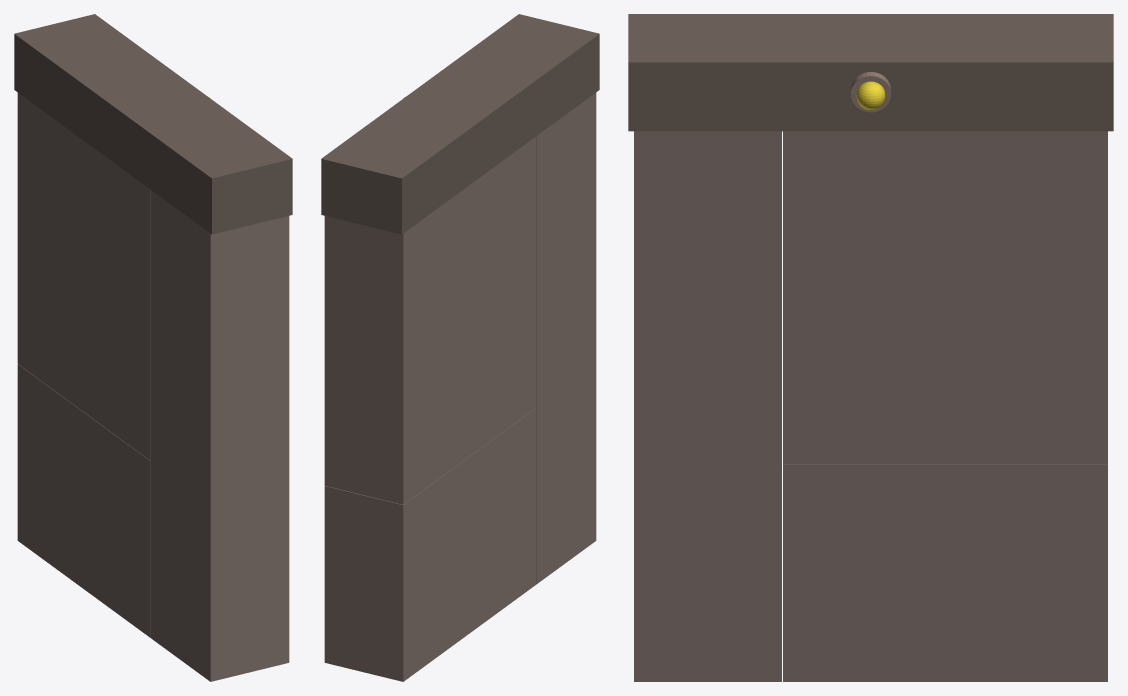
File: drzwi2 animacja.glb
3 renders of one model, left to right at view 1: azimuth 30°, elevation 25°; view 2: azimuth 150°, elevation 25°; view 3: azimuth 270°, elevation 25°, orthographic. The views are drawn at different scales.
Visible parts, largest first — view 1: Cube.002, Cube.001, Cube, Cube.003; view 2: Cube.001, Cube.003, Cube, Cube.002; view 3: Cube.001, Cube.002, Cube.003, Cube, Circle.
Boxes of the visible parts, <box> form: Cube.002: <box>150,190,289,681</box>; Cube.001: <box>17,92,150,459</box>; Cube: <box>14,14,292,234</box>; Cube.003: <box>17,364,150,637</box>; Cube.001: <box>324,137,535,504</box>; Cube.003: <box>324,408,535,681</box>; Cube: <box>321,14,599,234</box>; Cube.002: <box>536,92,596,584</box>; Cube.001: <box>783,131,1107,464</box>; Cube.002: <box>634,131,781,681</box>; Cube.003: <box>783,464,1107,681</box>; Cube: <box>628,14,1113,131</box>; Circle: <box>851,72,890,112</box>.
Bounding box in the file's own units: 0.8993 × 4.35 × 3.08.
